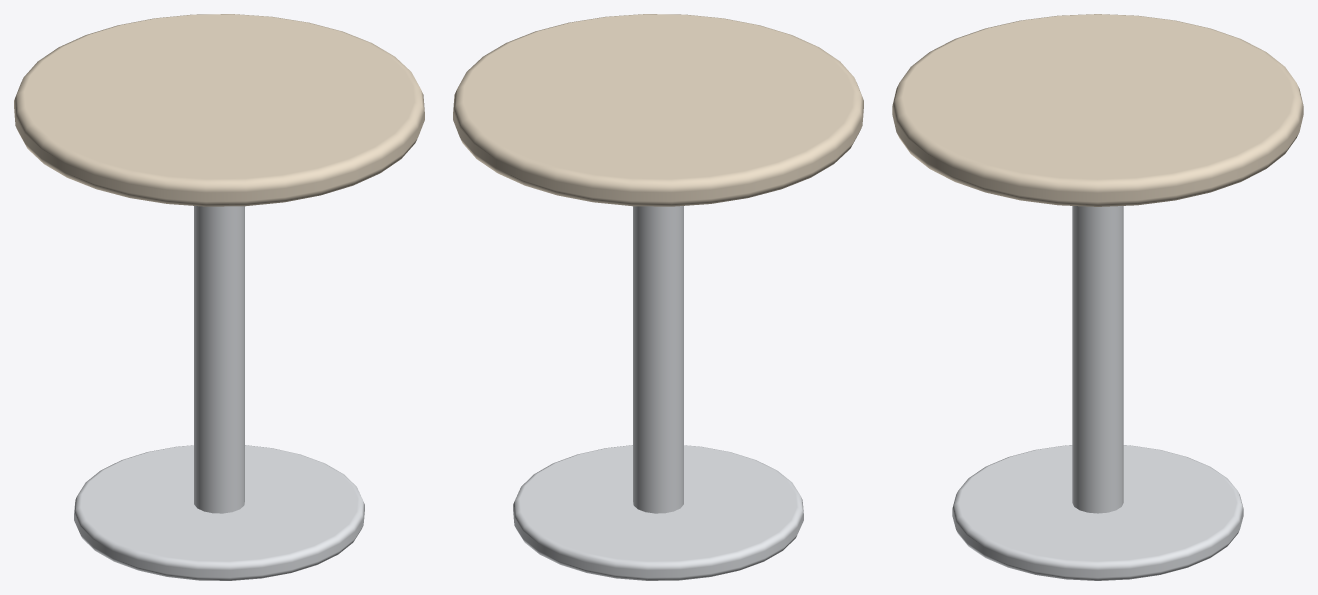
File: sideTable.glb
3 renders of one model, left to right at view 1: azimuth 30°, elevation 25°; view 2: azimuth 150°, elevation 25°; view 3: azimuth 270°, elevation 25°, orthographic.
Parts seen in each view (by area): view 1: sideTable; view 2: sideTable; view 3: sideTable.
Boxes of the visible parts, x1=… form: sideTable: x1=14, y1=14, x2=424, y2=580; sideTable: x1=453, y1=14, x2=863, y2=580; sideTable: x1=892, y1=14, x2=1303, y2=580.
Size of the model in its own units: 0.48 by 0.5475 by 0.48.
